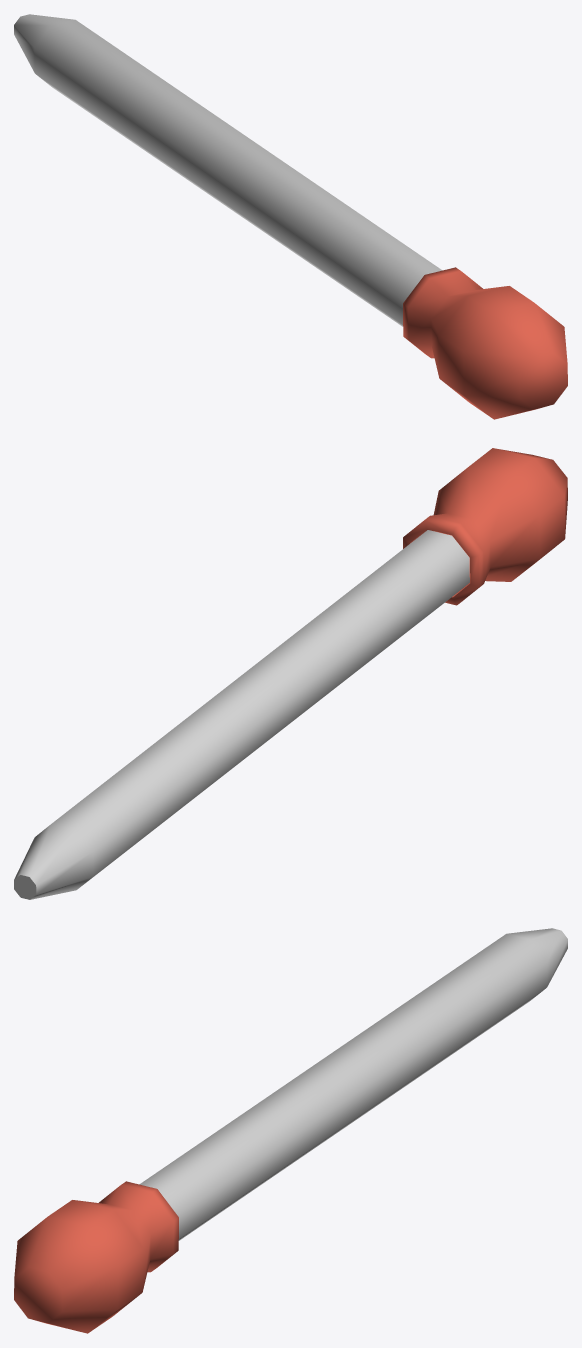
File: SM_Pipette_01.fbx
3 renders of one model, top to bottom at view 1: azimuth 30°, elevation 25°; view 2: azimuth 150°, elevation 25°; view 3: azimuth 330°, elevation 25°, orthographic.
Parts seen in each view (by area): view 1: SM_Pipette_01; view 2: SM_Pipette_01; view 3: SM_Pipette_01.
Part boxes in pixels (bbox=[...]): SM_Pipette_01: bbox=[14, 14, 567, 419]; SM_Pipette_01: bbox=[14, 448, 567, 899]; SM_Pipette_01: bbox=[14, 928, 567, 1333].
Size of the model in its own units: 1.89 by 1.91 by 16.82.
